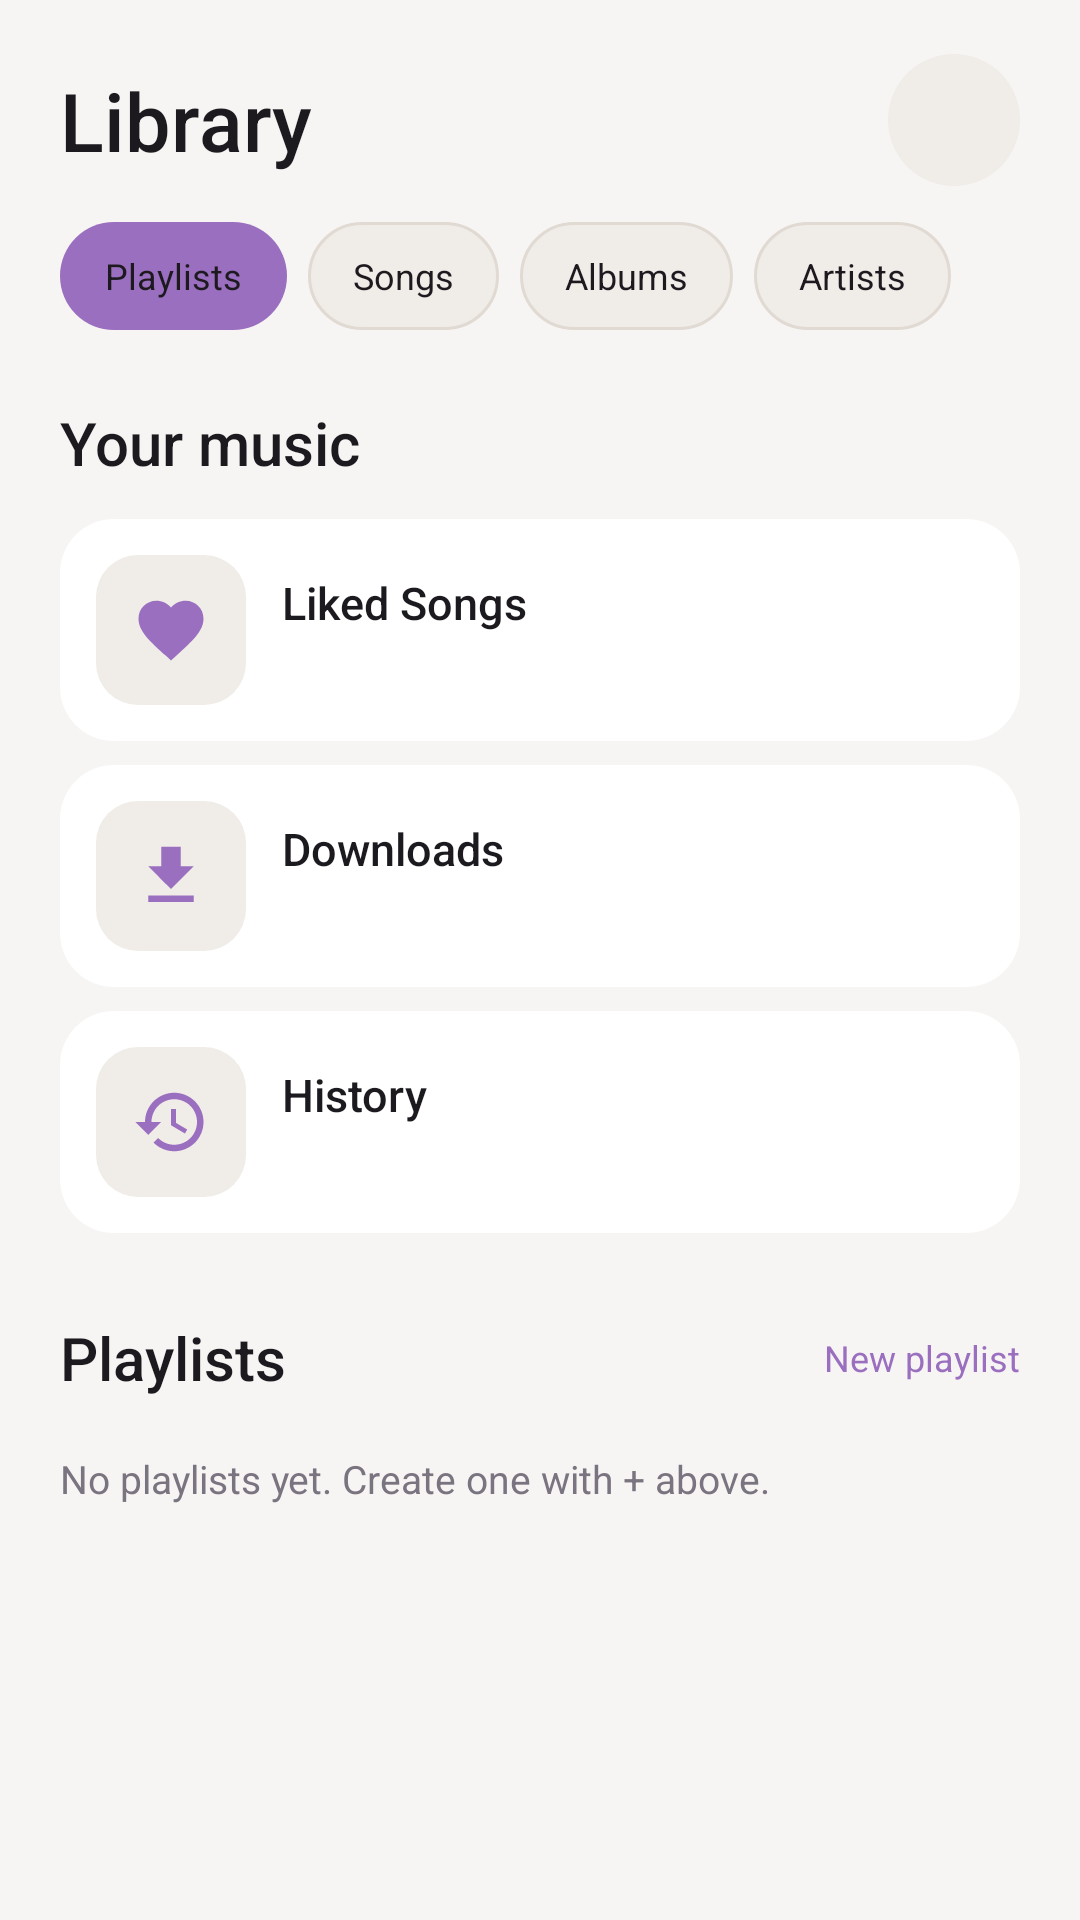

Locate icon controls on the screen. Image size 1080px×1920px, boxes as (x1, y1, x2, y2).
heart: (138, 600, 204, 661)
